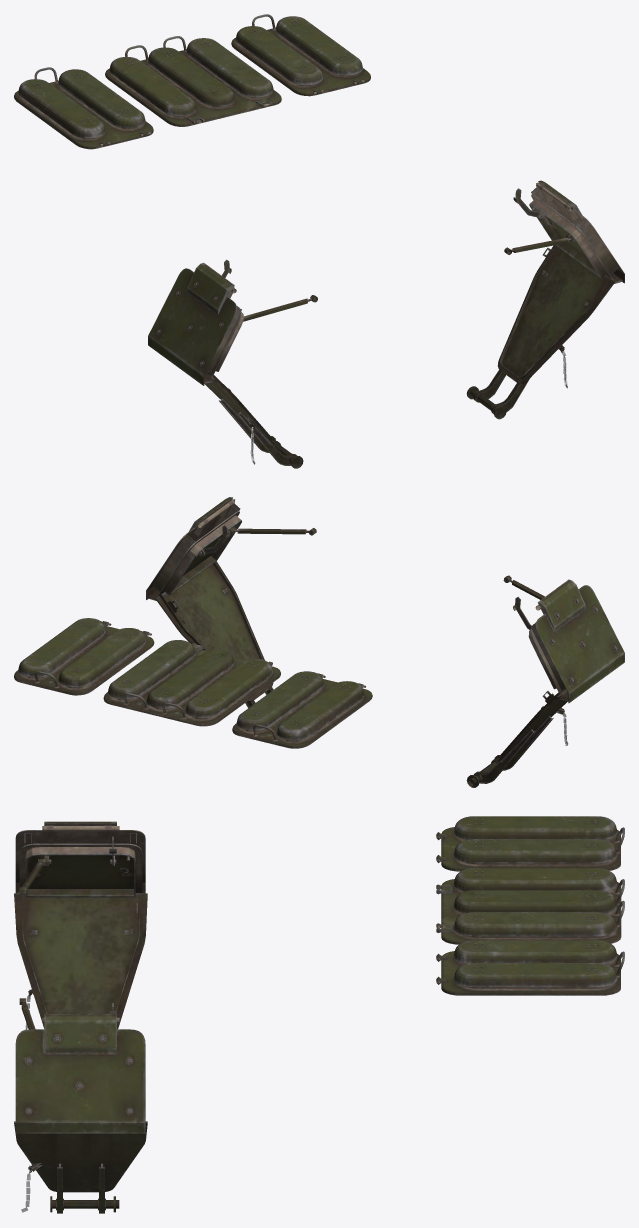
File: bokiine.obj
3 views of the same model, one above another, from view 1: azimuth 30°, elevation 25°; view 2: azimuth 150°, elevation 25°; view 3: azimuth 270°, elevation 25° (orthographic). The views are drawn at different scales.
Parts seen in each view (by area): view 1: vehicle#hatch_12_38, vehicle#hatch_07_42, vehicle#hatch_06_34, vehicle#hatch_11_28, vehicle#hatch_13_37, vehicle#hatch_08_41, vehicle#hatch_02_35; view 2: vehicle#hatch_12_38, vehicle#hatch_06_34, vehicle#hatch_13_37, vehicle#hatch_11_28, vehicle#hatch_07_42, vehicle#hatch_08_41, vehicle#hatch_02_35; view 3: vehicle#hatch_08_41, vehicle#hatch_02_35, vehicle#hatch_12_38, vehicle#hatch_13_37, vehicle#hatch_06_34, vehicle#hatch_11_28, vehicle#hatch_07_42.
Part boxes in pixels (<box>): vehicle#hatch_12_38: <box>105,36,281,126</box>; vehicle#hatch_07_42: <box>466,245,614,419</box>; vehicle#hatch_06_34: <box>148,259,317,385</box>; vehicle#hatch_11_28: <box>14,67,153,149</box>; vehicle#hatch_13_37: <box>231,14,370,96</box>; vehicle#hatch_08_41: <box>504,180,624,283</box>; vehicle#hatch_02_35: <box>204,375,303,468</box>; vehicle#hatch_12_38: <box>103,640,280,726</box>; vehicle#hatch_06_34: <box>503,575,624,703</box>; vehicle#hatch_13_37: <box>14,618,154,695</box>; vehicle#hatch_11_28: <box>232,671,372,748</box>; vehicle#hatch_07_42: <box>155,561,273,707</box>; vehicle#hatch_08_41: <box>146,497,316,600</box>; vehicle#hatch_02_35: <box>466,691,568,787</box>; vehicle#hatch_08_41: <box>15,998,145,1133</box>; vehicle#hatch_02_35: <box>14,892,147,1031</box>; vehicle#hatch_12_38: <box>436,868,624,944</box>; vehicle#hatch_13_37: <box>436,940,624,995</box>; vehicle#hatch_06_34: <box>15,821,145,897</box>; vehicle#hatch_11_28: <box>436,816,624,871</box>; vehicle#hatch_07_42: <box>14,1121,147,1213</box>.
Bounding box in the file's own units: 3.11 × 1.57 × 3.34.
